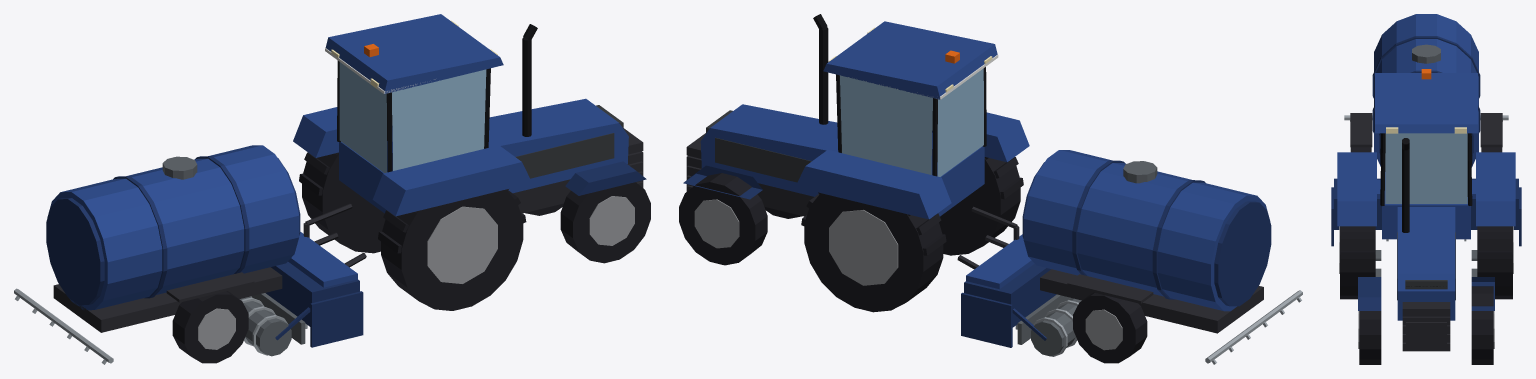
The model's file is tractor.glb.
3 renders of one model, left to right at view 1: azimuth 30°, elevation 25°; view 2: azimuth 150°, elevation 25°; view 3: azimuth 270°, elevation 25°, orthographic. The views are drawn at different scales.
Visible parts, largest first — view 1: Tractor, Bowser, Harrow; view 2: Tractor, Bowser, Harrow; view 3: Tractor, Bowser, Harrow.
Boxes of the visible parts, x1,y1,x2,y2 form: Tractor: (293, 14, 650, 310); Bowser: (14, 145, 300, 364); Harrow: (239, 223, 363, 356); Tractor: (679, 14, 1029, 312); Bowser: (1022, 150, 1302, 364); Harrow: (961, 226, 1081, 356); Tractor: (1337, 69, 1515, 364); Bowser: (1344, 14, 1508, 167); Harrow: (1331, 178, 1521, 246).
Size of the model in its own units: 8.37 by 3.31 by 2.78.
